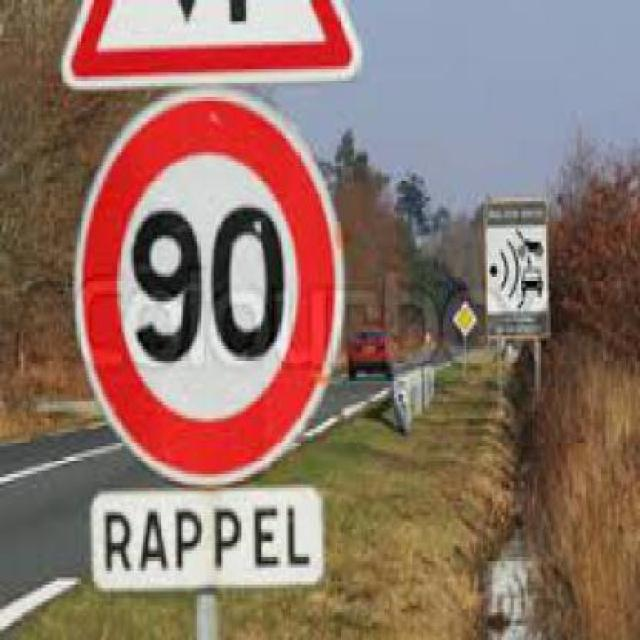speed limit 90: (73, 91, 345, 486)
